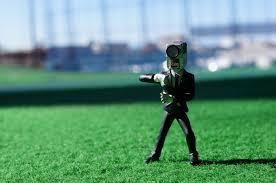no more kid: (165, 41, 190, 73)
